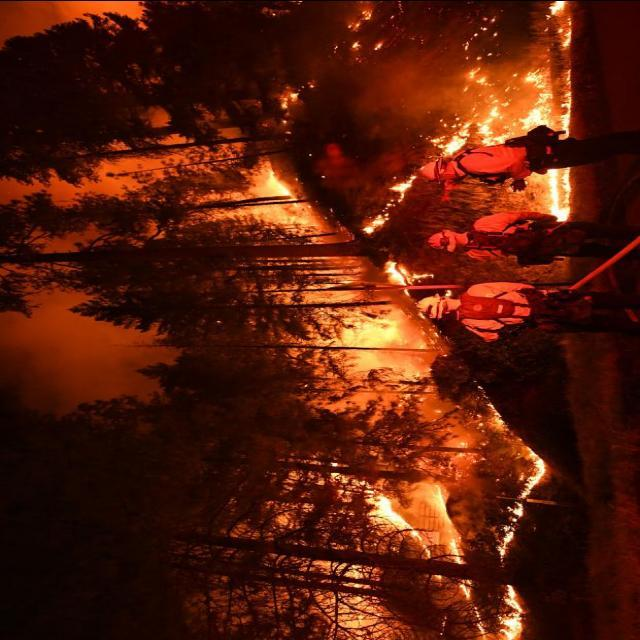Fire: (220, 0, 574, 383), (326, 440, 554, 638)
